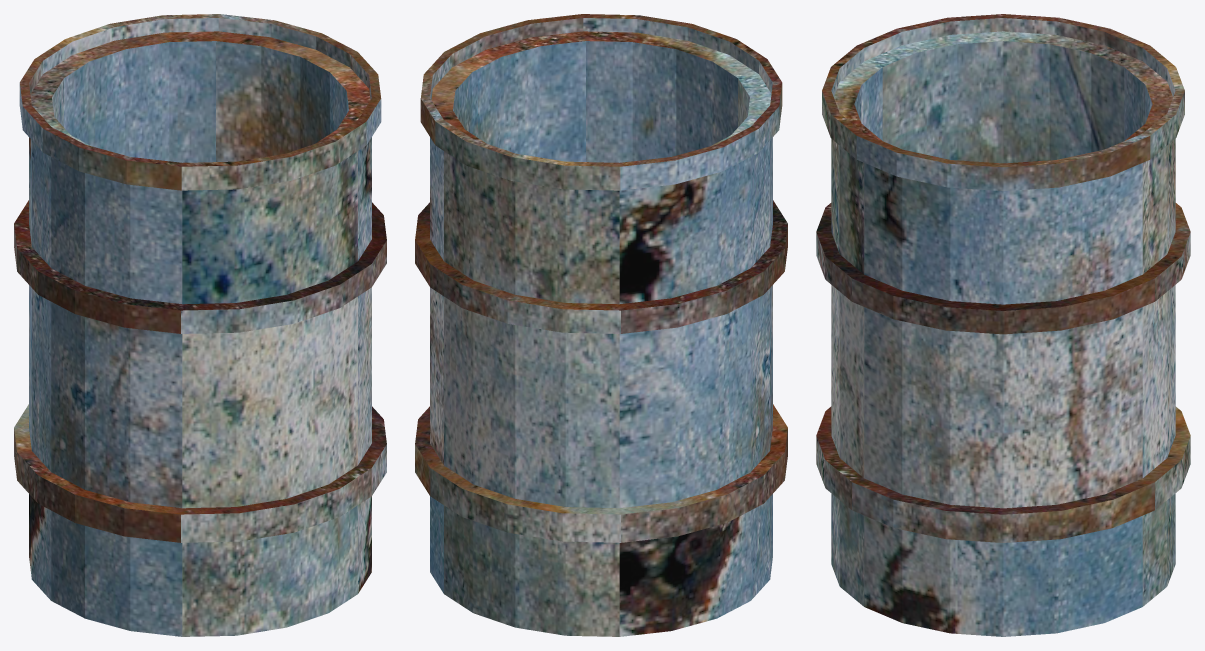
Rendered from Barrel.fbx.
3 renders of one model, left to right at view 1: azimuth 30°, elevation 25°; view 2: azimuth 150°, elevation 25°; view 3: azimuth 270°, elevation 25°, orthographic.
Parts seen in each view (by area): view 1: pCylinder1; view 2: pCylinder1; view 3: pCylinder1.
Boxes of the visible parts, <box> form: pCylinder1: <box>14,14,386,636</box>; pCylinder1: <box>415,14,787,636</box>; pCylinder1: <box>816,14,1190,636</box>.
Size of the model in its own units: 5.77 by 8.05 by 5.77.
